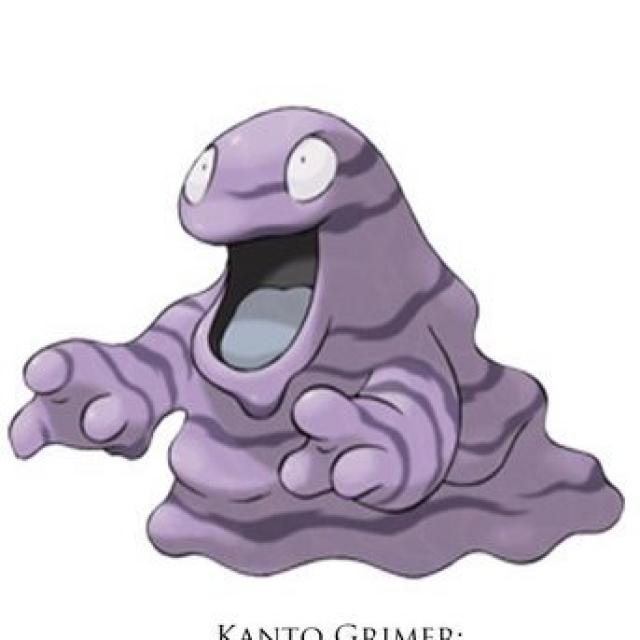Grimer: (138, 98, 491, 558)
